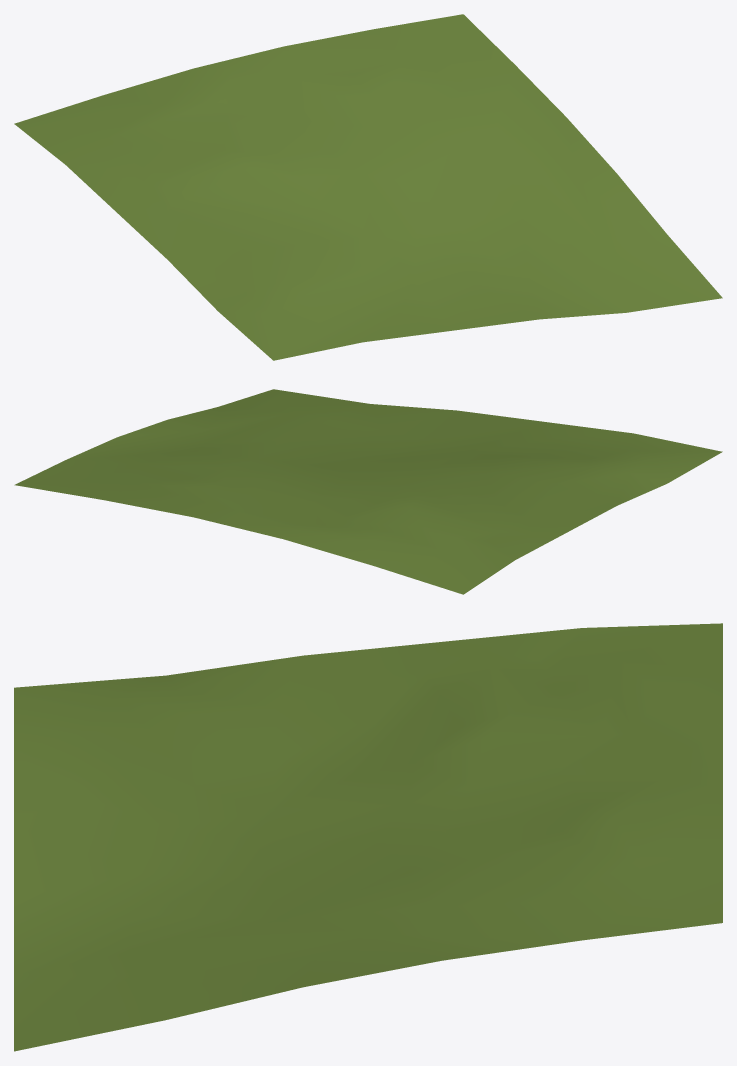
File: rpgpp_ag_terrain_hill_01e_10x10m_0-2-1-1m.fbx
The picture shows the model from 3 angles, top to bottom: view 1: azimuth 30°, elevation 25°; view 2: azimuth 150°, elevation 25°; view 3: azimuth 270°, elevation 25°; orthographic projection. The views are drawn at different scales.
Parts seen in each view (by area): view 1: rpgpp_ag_terrain_hill_01e_10x10m_0-2-1-1m; view 2: rpgpp_ag_terrain_hill_01e_10x10m_0-2-1-1m; view 3: rpgpp_ag_terrain_hill_01e_10x10m_0-2-1-1m.
Part boxes in pixels (left/top/right/bottom): rpgpp_ag_terrain_hill_01e_10x10m_0-2-1-1m: left=14, top=14, right=722, bottom=360; rpgpp_ag_terrain_hill_01e_10x10m_0-2-1-1m: left=14, top=389, right=722, bottom=594; rpgpp_ag_terrain_hill_01e_10x10m_0-2-1-1m: left=14, top=623, right=722, bottom=1051.
Bounding box in the file's own units: 10 × 2.25 × 10.
